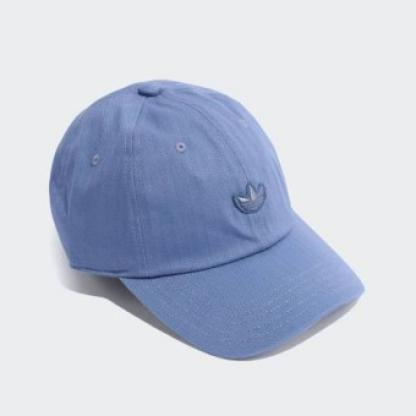cap: (28, 66, 377, 365)
